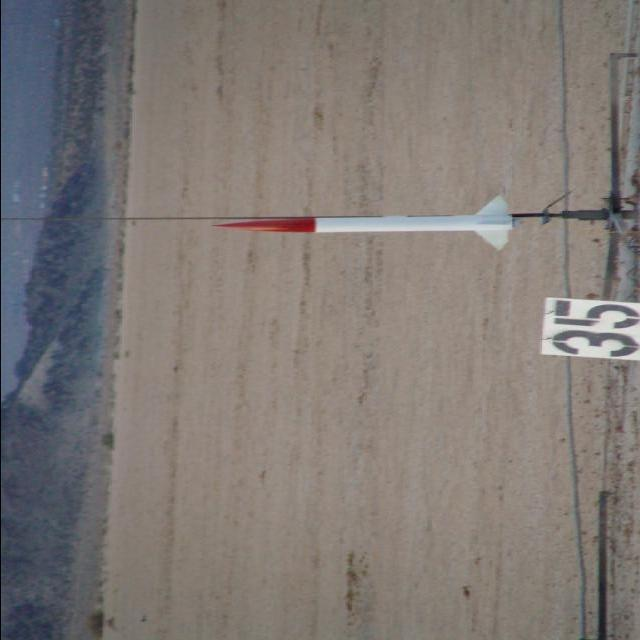missile: (215, 195, 518, 251)
